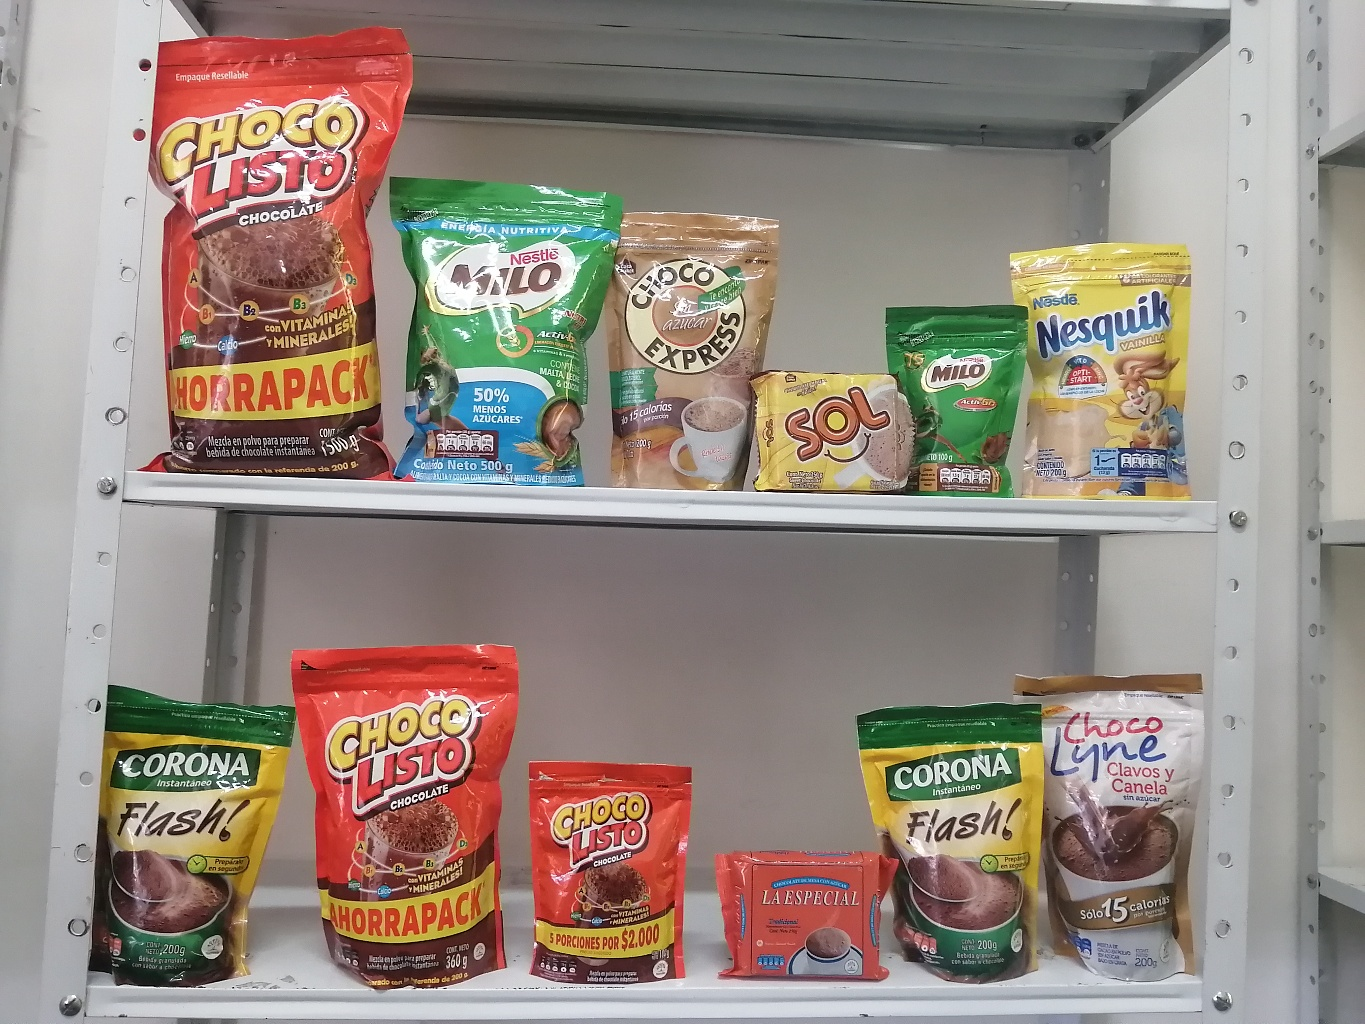COL0170103DYP1,500: (108, 22, 454, 501)
COL0170103DYP36000: (276, 635, 544, 999)
COL0170203DYP10000: (878, 290, 1033, 507)
COL0170205DYP50000: (365, 154, 622, 493)
COL0170306DYP20000: (991, 229, 1220, 508)
